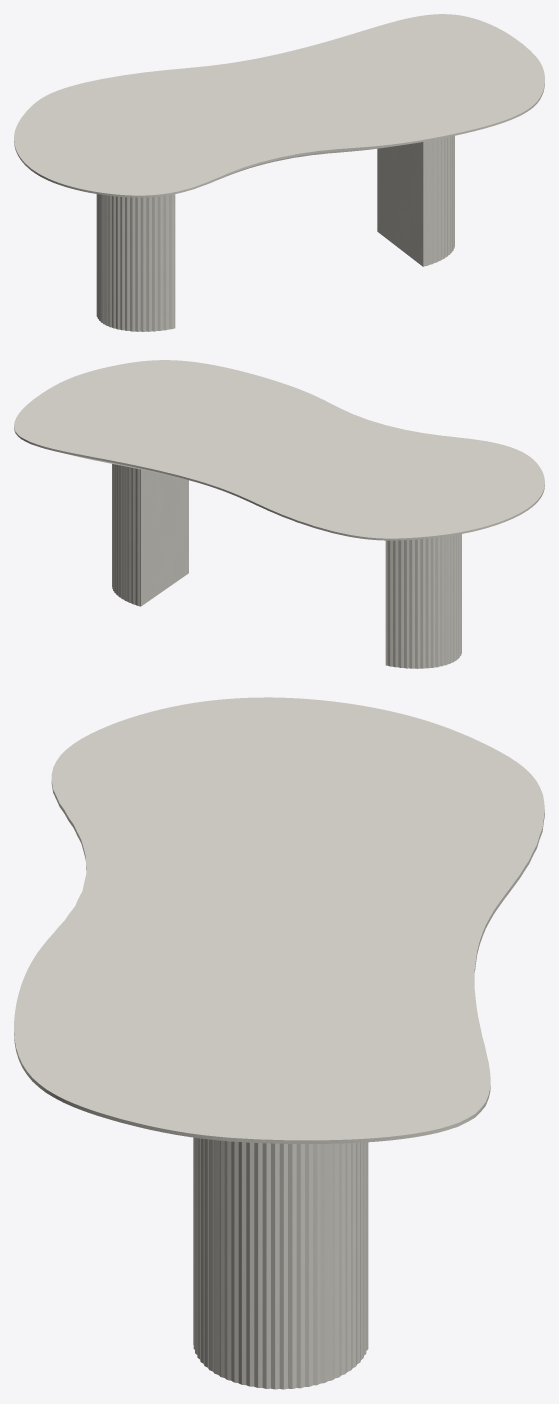
The model's file is pale_wave_facet_flute.glb.
3 renders of one model, top to bottom at view 1: azimuth 30°, elevation 25°; view 2: azimuth 150°, elevation 25°; view 3: azimuth 270°, elevation 25°, orthographic. The views are drawn at different scales.
Visible parts, largest first — view 1: facet_wave, flute; view 2: facet_wave, flute; view 3: facet_wave, flute.
Boxes of the visible parts, x1,y1,x2,y2 form: facet_wave: (14, 14, 544, 197); flute: (96, 136, 454, 331); facet_wave: (14, 360, 544, 540); flute: (112, 464, 461, 668); facet_wave: (14, 697, 544, 1143); flute: (193, 1137, 368, 1389).
Bounding box in the file's own units: 7.5 × 2.5 × 3.8.
Materials: 1 (1 with a texture image).
